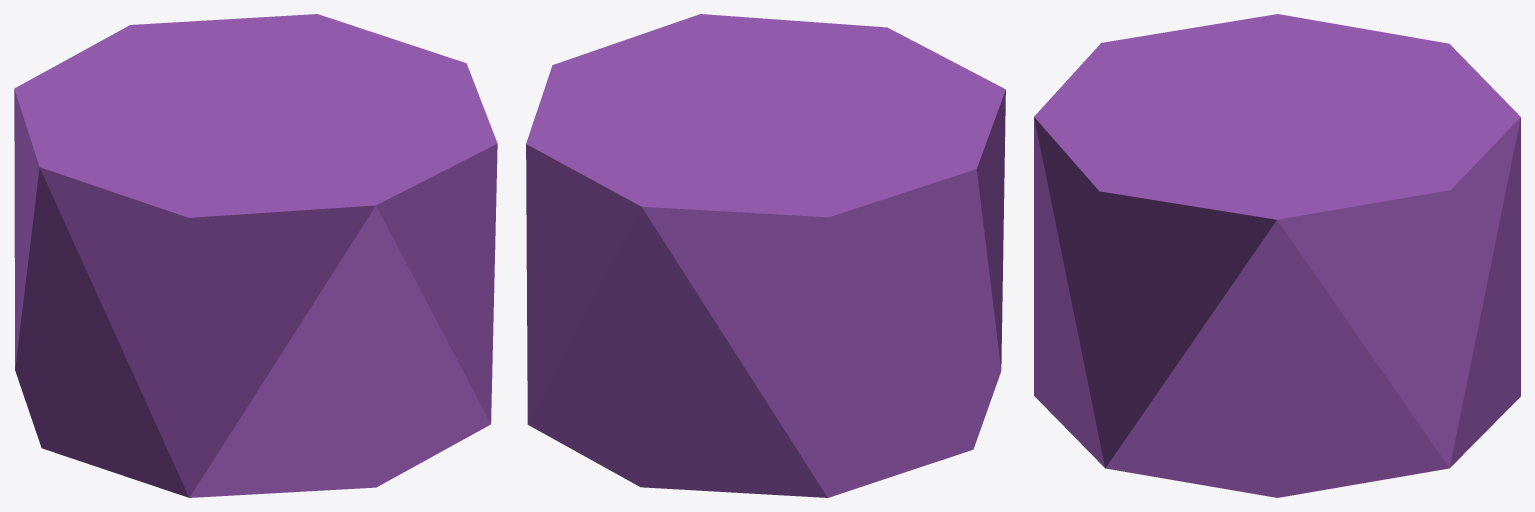
The model's file is pedestal.glb.
3 views of the same model, side by side, from view 1: azimuth 30°, elevation 25°; view 2: azimuth 150°, elevation 25°; view 3: azimuth 270°, elevation 25° (orthographic).
Visible parts, largest first — view 1: Core; view 2: Core; view 3: Core.
Boxes of the visible parts, box(x1,y1,x2,y2) form: Core: box(14, 14, 497, 497); Core: box(526, 14, 1005, 497); Core: box(1034, 14, 1520, 497).
Bounding box in the file's own units: 1.33 × 0.84 × 1.33.
